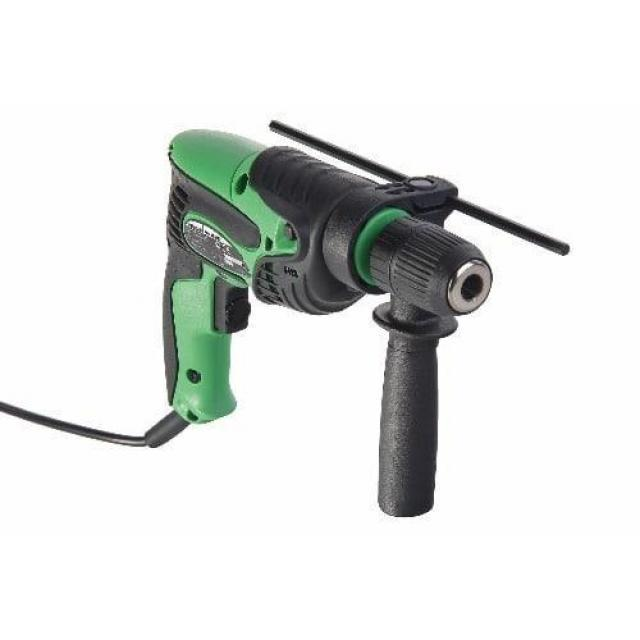drill: (144, 119, 572, 516)
